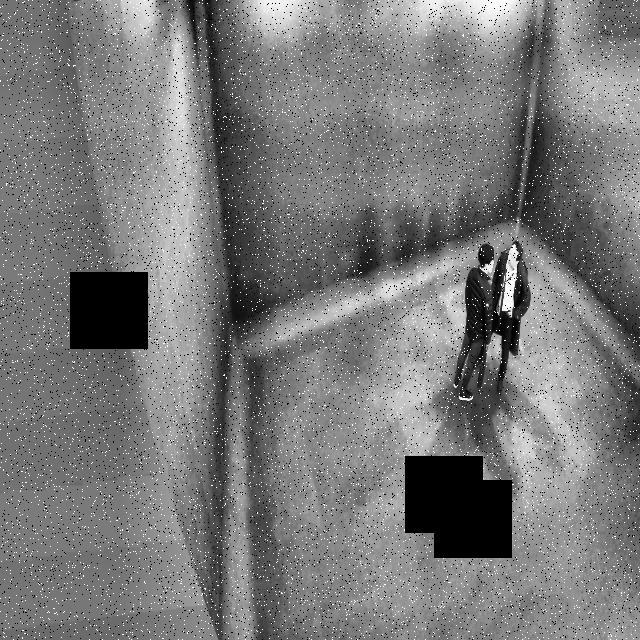assult: (450, 230, 535, 409)
